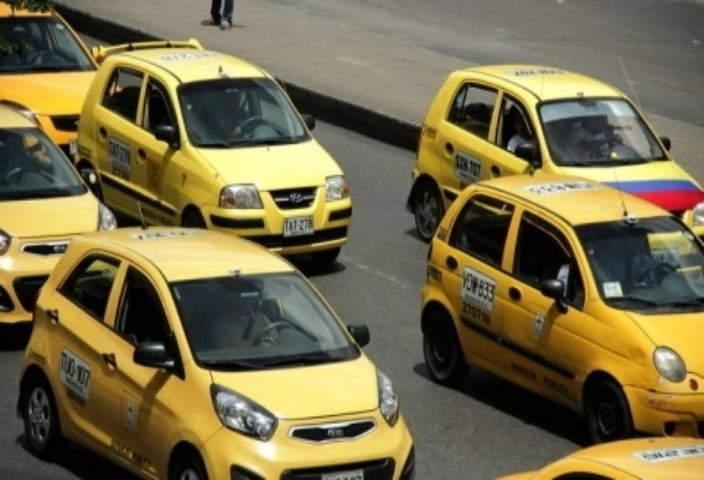taxi: (20, 226, 424, 480), (394, 159, 704, 448), (44, 27, 358, 266), (408, 57, 704, 261), (1, 96, 122, 330), (1, 3, 125, 151)
